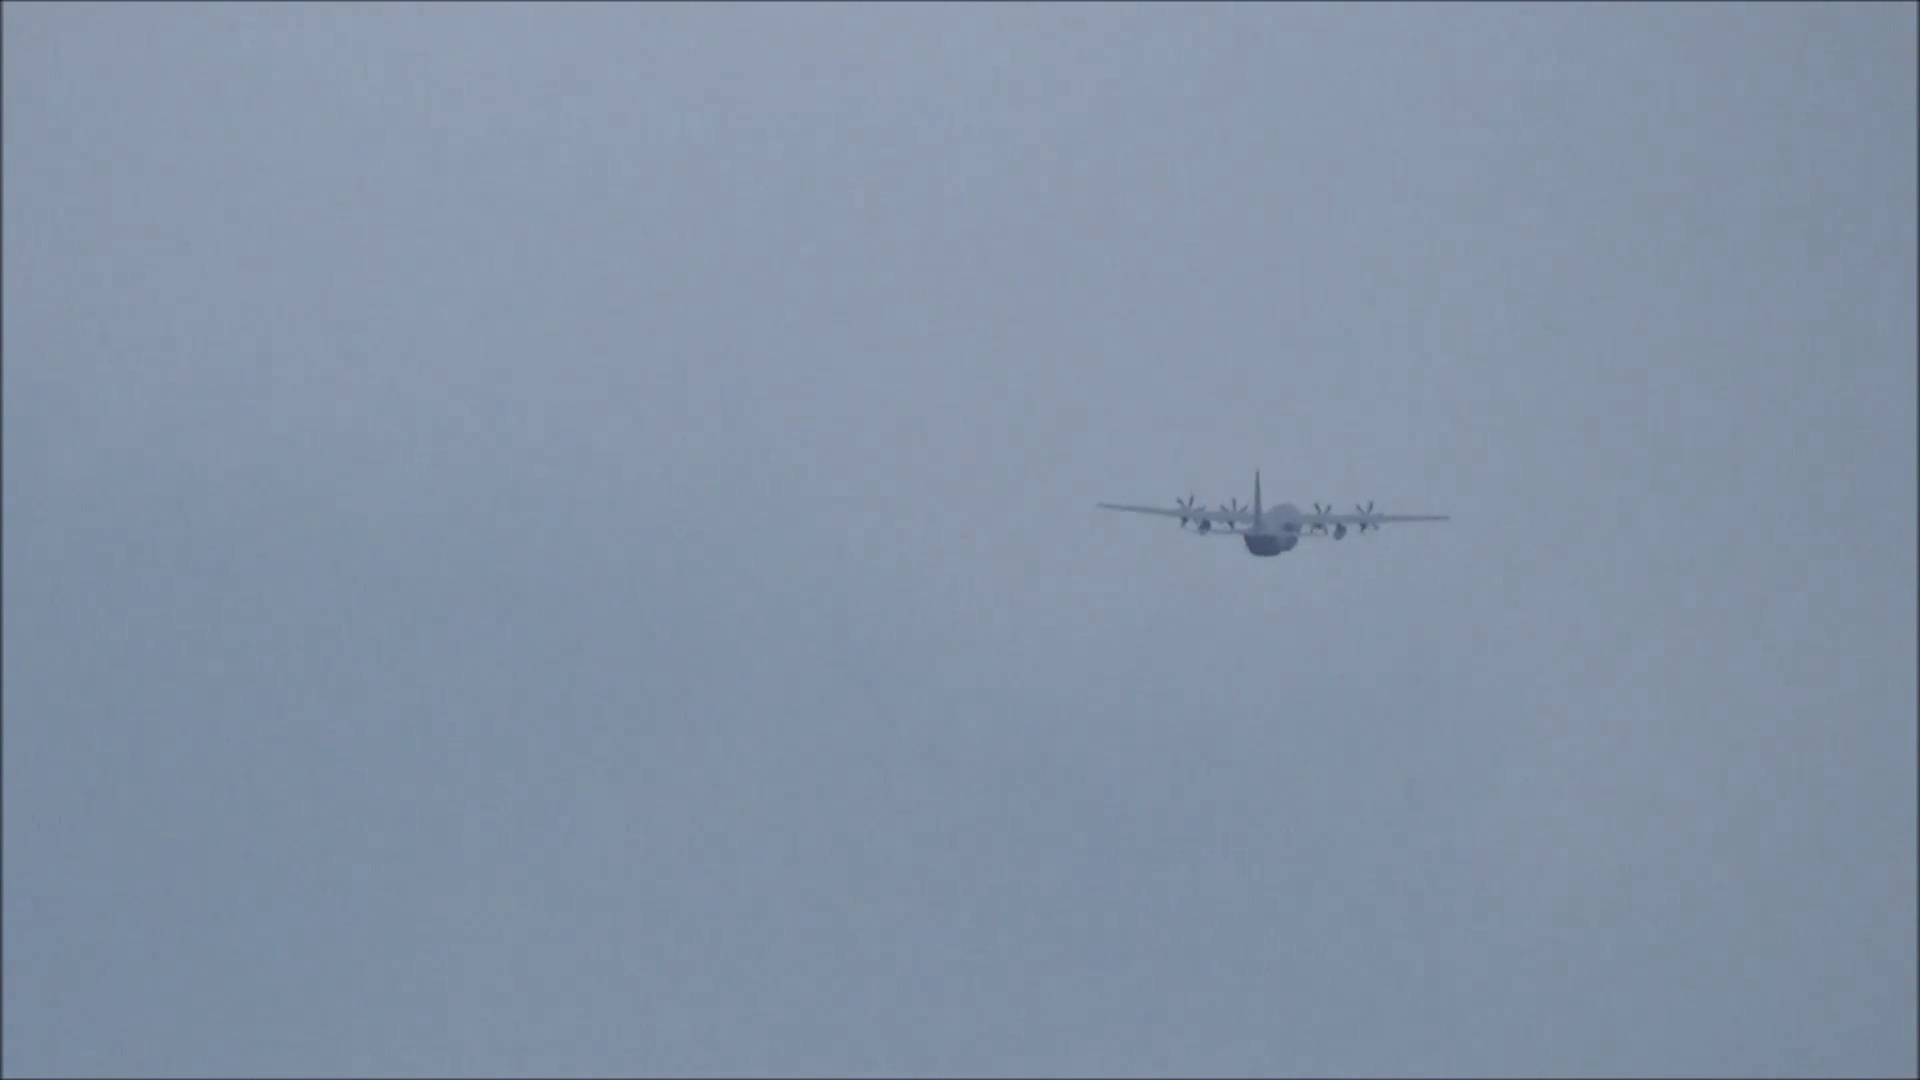Airplane: (1096, 465, 1451, 553)
